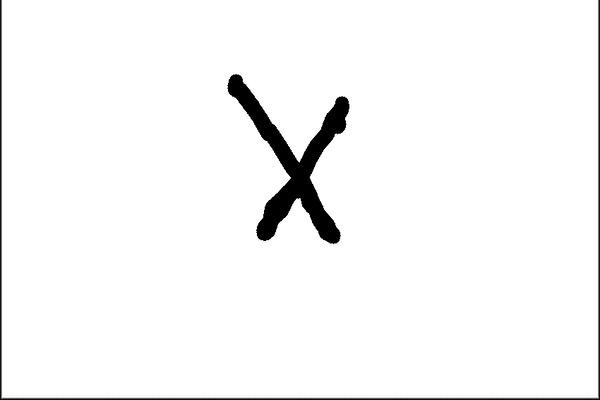X: (214, 55, 356, 259)
